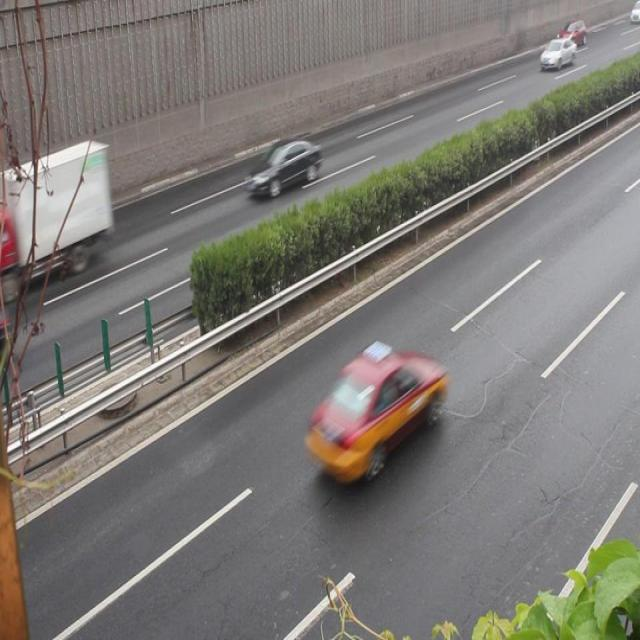bus: (1, 140, 114, 297)
car: (308, 340, 444, 478), (244, 137, 320, 200), (536, 38, 575, 73)
